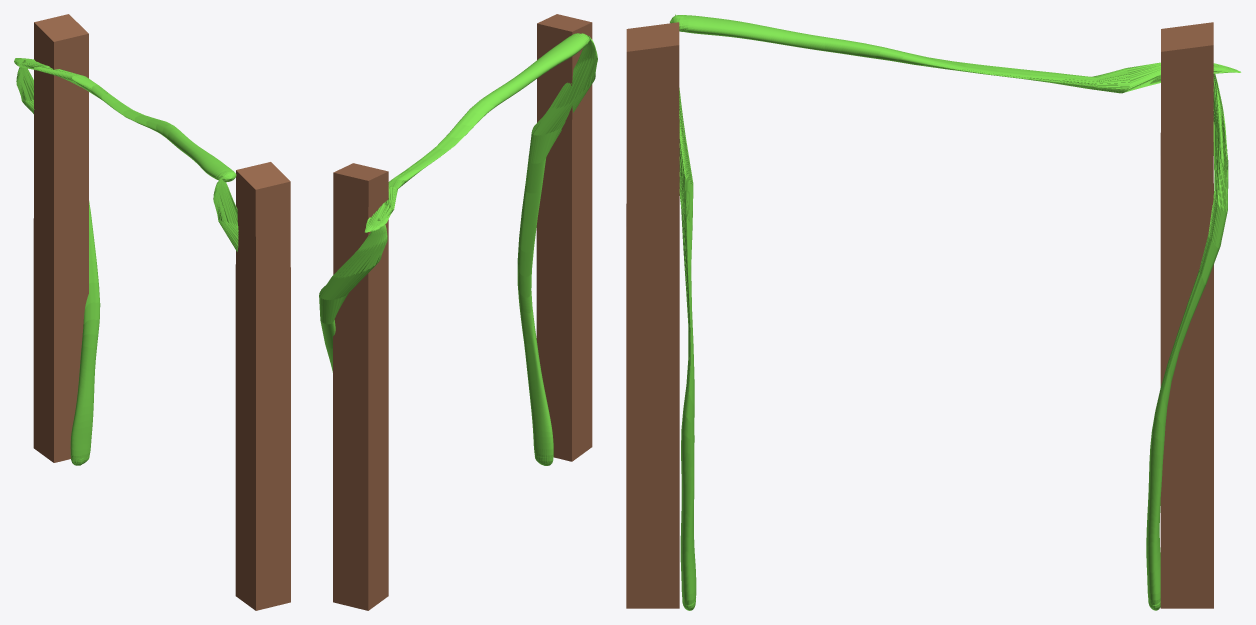
The model's file is luffastage2.fbx.
3 renders of one model, left to right at view 1: azimuth 30°, elevation 25°; view 2: azimuth 150°, elevation 25°; view 3: azimuth 270°, elevation 25°, orthographic. The views are drawn at different scales.
Parts seen in each view (by area): view 1: fence, fence.001, vine, vine.002, vine.001; view 2: fence.001, fence, vine.001, vine.002, vine; view 3: fence, fence.001, vine.002, vine, vine.001.
Part boxes in pixels (bbox=[...]): fence: bbox=[235, 162, 290, 610]; fence.001: bbox=[33, 14, 88, 462]; vine: bbox=[16, 60, 100, 465]; vine.002: bbox=[14, 58, 236, 182]; vine.001: bbox=[213, 176, 238, 251]; fence.001: bbox=[333, 163, 388, 610]; fence: bbox=[536, 14, 592, 461]; vine.001: bbox=[517, 35, 597, 465]; vine.002: bbox=[365, 33, 589, 232]; vine: bbox=[319, 217, 387, 372]; fence: bbox=[626, 22, 679, 608]; fence.001: bbox=[1160, 22, 1213, 608]; vine.002: bbox=[670, 15, 1240, 93]; vine: bbox=[1146, 73, 1228, 610]; vine.001: bbox=[675, 14, 696, 610].
Size of the model in its own units: 425 by 2368 by 2303.
